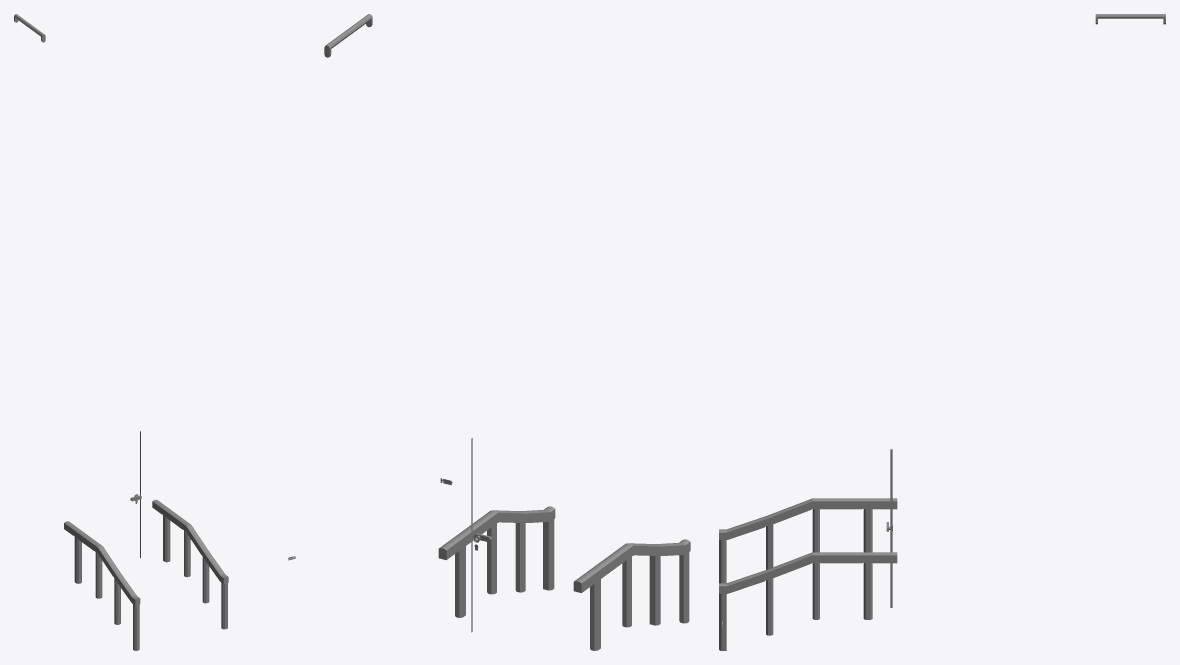
The model's file is buildig.001_metal_(matte)_0.001_lev3.glb.
The picture shows the model from 3 angles, left to right: view 1: azimuth 30°, elevation 25°; view 2: azimuth 150°, elevation 25°; view 3: azimuth 270°, elevation 25°; orthographic projection. The views are drawn at different scales.
Visible parts, largest first — view 1: buildig.001_metal_(matte)_0.001_lev3; view 2: buildig.001_metal_(matte)_0.001_lev3; view 3: buildig.001_metal_(matte)_0.001_lev3.
Boxes of the visible parts, x1,y1,x2,y2 form: buildig.001_metal_(matte)_0.001_lev3: (14, 14, 295, 650); buildig.001_metal_(matte)_0.001_lev3: (324, 14, 690, 650); buildig.001_metal_(matte)_0.001_lev3: (719, 14, 1165, 650).
Size of the model in its own units: 0.8386 by 2.44 by 1.6.
Materials: 1 (1 with a texture image).
